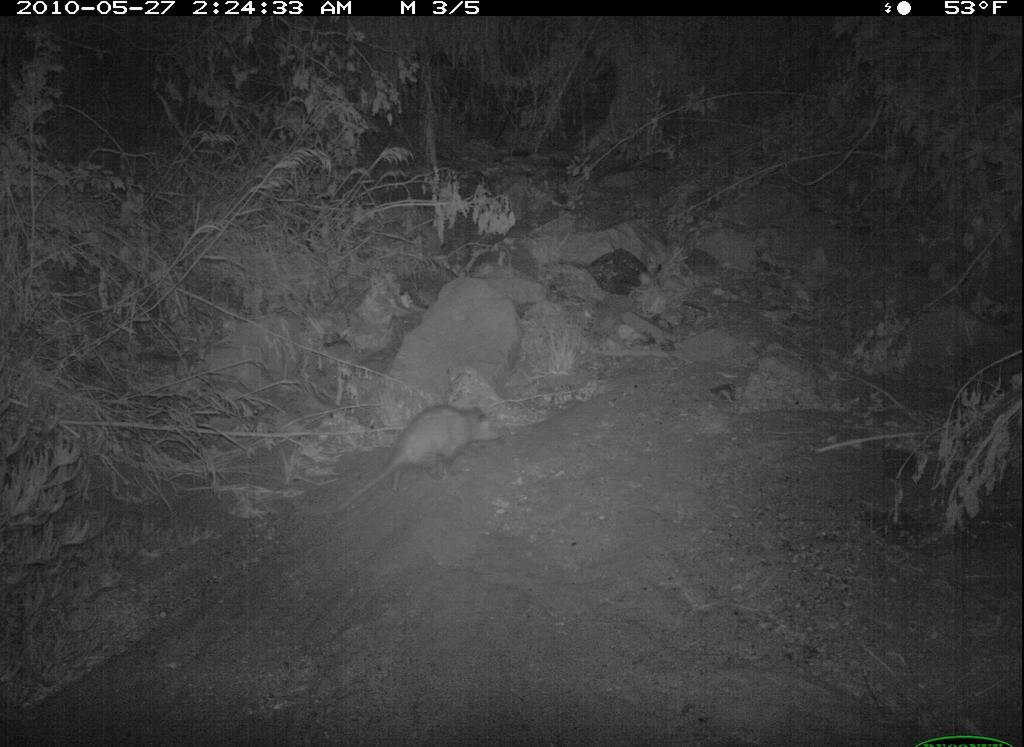opossum: (335, 400, 507, 519)
